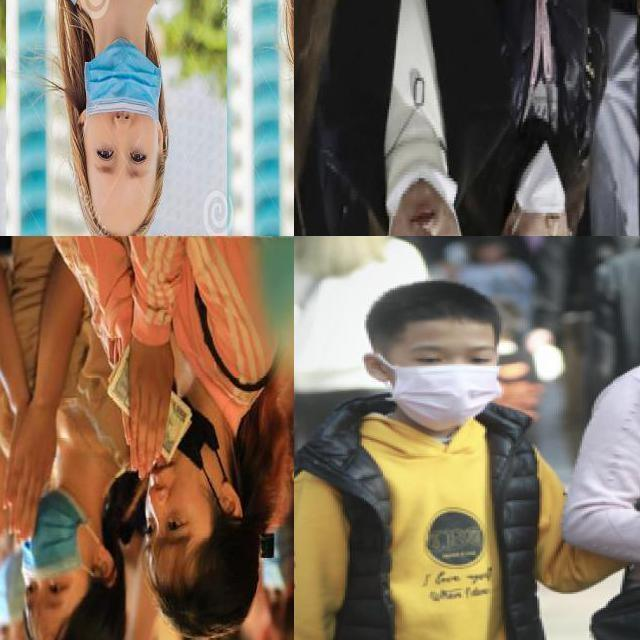hairnet: (136, 404, 228, 508), (83, 37, 163, 135), (387, 157, 462, 236), (512, 137, 573, 232)
